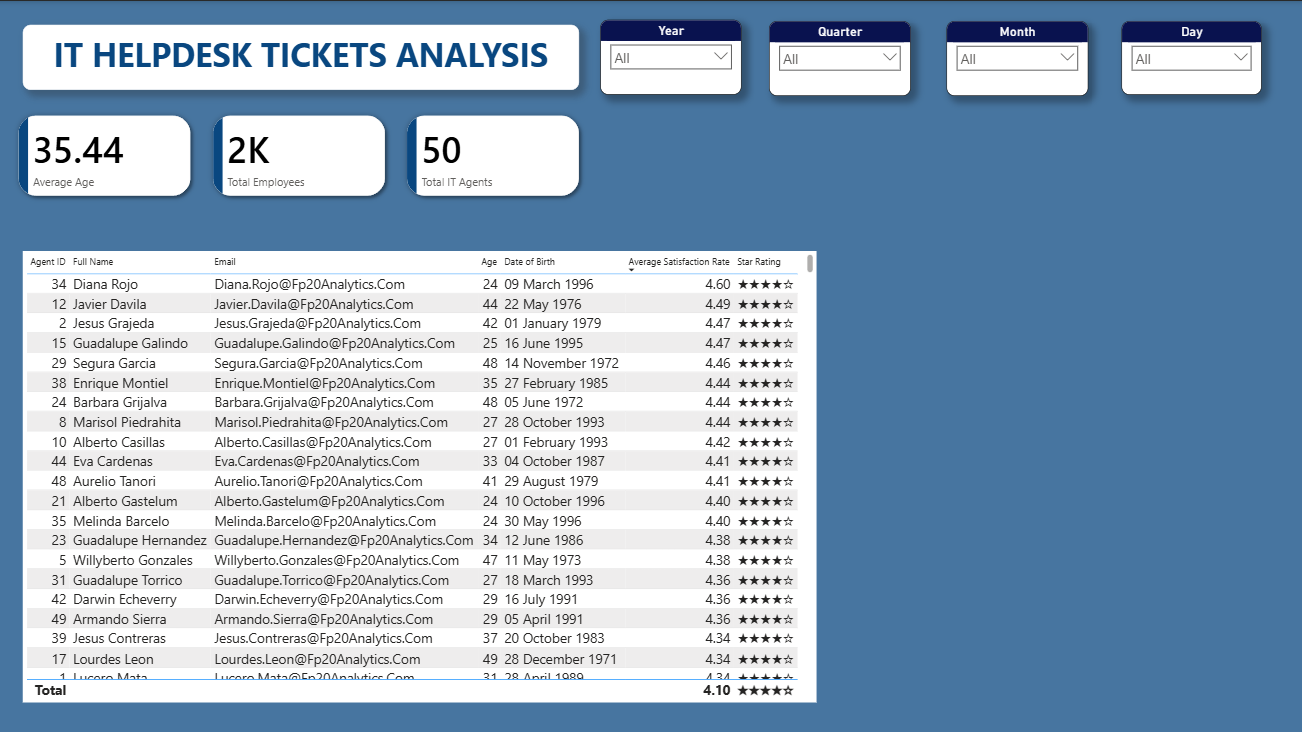

Layout of this report page (visuals, bound fields, positions):
{"tool":"powerbi","page":{"name":"IT Agent Info","canvas":[1920,1080],"ordinal":1},"visuals":[{"type":"textbox","box":[35,35,819,95.7],"z":0},{"type":"slicer","title":"Year","fields":{"Values":["Calendar.Year"]},"box":[885.1,27.7,208,110],"z":1000},{"type":"slicer","title":"Quarter","fields":{"Values":["Calendar.Quarter"]},"box":[1134,29.8,208.5,110.6],"z":2000},{"type":"slicer","title":"Month","fields":{"Values":["Calendar.MonthName"]},"box":[1395.7,29.8,208.5,110.6],"z":3000},{"type":"slicer","title":"Day","fields":{"Values":["Calendar.Day"]},"box":[1653.2,29.8,206.4,108.5],"z":4000},{"type":"cardVisual","fields":{"Data":["Measure_Table.Average Age","Measure_Table.Total Employees","Measure_Table.Total IT Agents"]},"box":[0,139.9,885.3,176.7],"z":5000},{"type":"tableEx","fields":{"Values":["Tickets.Agent ID","IT Agents.Full Name","IT Agents.Email","IT Agents.Age","IT Agents.Date of Birth","Measure_Table.Average Satisfaction Rate","Measure_Table.Star Rating"]},"box":[35,368.1,1168.7,664.4],"z":6000}]}

Visuals, with their boxes in screenshot pixels (x1, y1, x2, y2), scaled from the page's 1920x1080 canvas onto the 1302x732 screenshot:
textbox: l=24, t=24, r=579, b=89
"Year" slicer: l=600, t=19, r=741, b=93
"Quarter" slicer: l=769, t=20, r=910, b=95
"Month" slicer: l=946, t=20, r=1088, b=95
"Day" slicer: l=1121, t=20, r=1261, b=94
cardVisual - Measure_Table.Average Age x Measure_Table.Total Employees: l=0, t=95, r=600, b=215
tableEx - Tickets.Agent ID x IT Agents.Full Name: l=24, t=249, r=816, b=700
